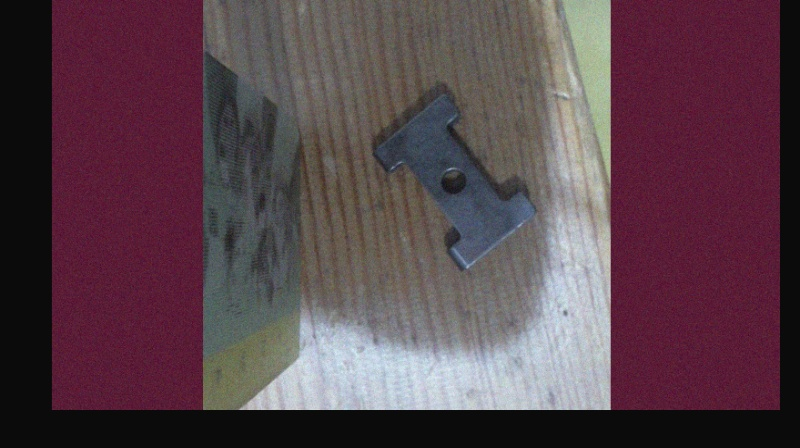O002: (369, 92, 536, 275)
